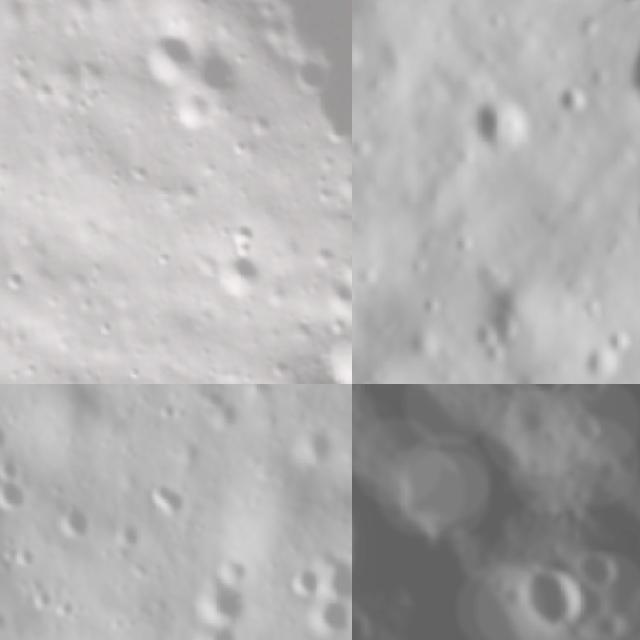crater: (499, 545, 602, 640), (453, 283, 547, 383), (456, 76, 547, 169), (249, 306, 352, 384), (174, 39, 250, 116), (197, 241, 272, 314), (562, 532, 634, 604), (129, 24, 200, 96), (549, 399, 612, 461), (604, 44, 640, 144), (282, 411, 342, 470), (195, 563, 250, 627), (569, 332, 636, 384), (544, 74, 602, 129), (149, 473, 195, 528), (305, 588, 352, 640), (498, 384, 577, 409), (61, 497, 101, 545), (600, 320, 640, 364), (558, 384, 613, 410), (289, 560, 321, 602), (0, 481, 37, 513), (194, 626, 256, 640), (625, 184, 640, 238), (626, 152, 640, 207)
